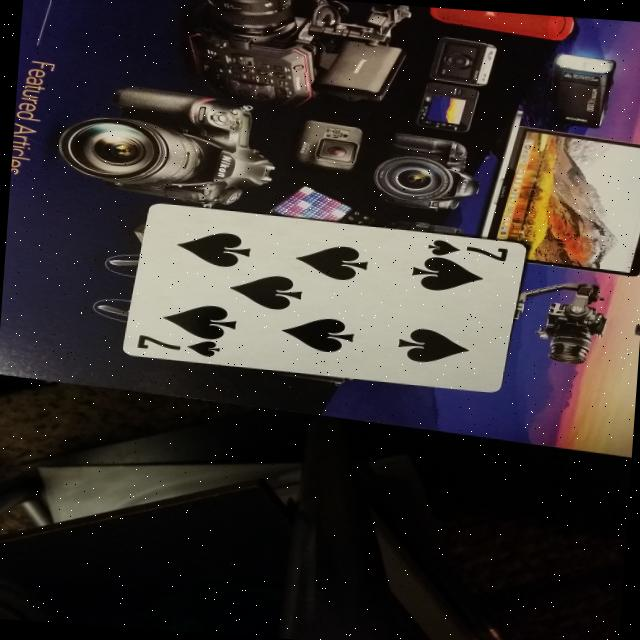7s: (417, 233, 512, 267), (128, 331, 226, 359)
